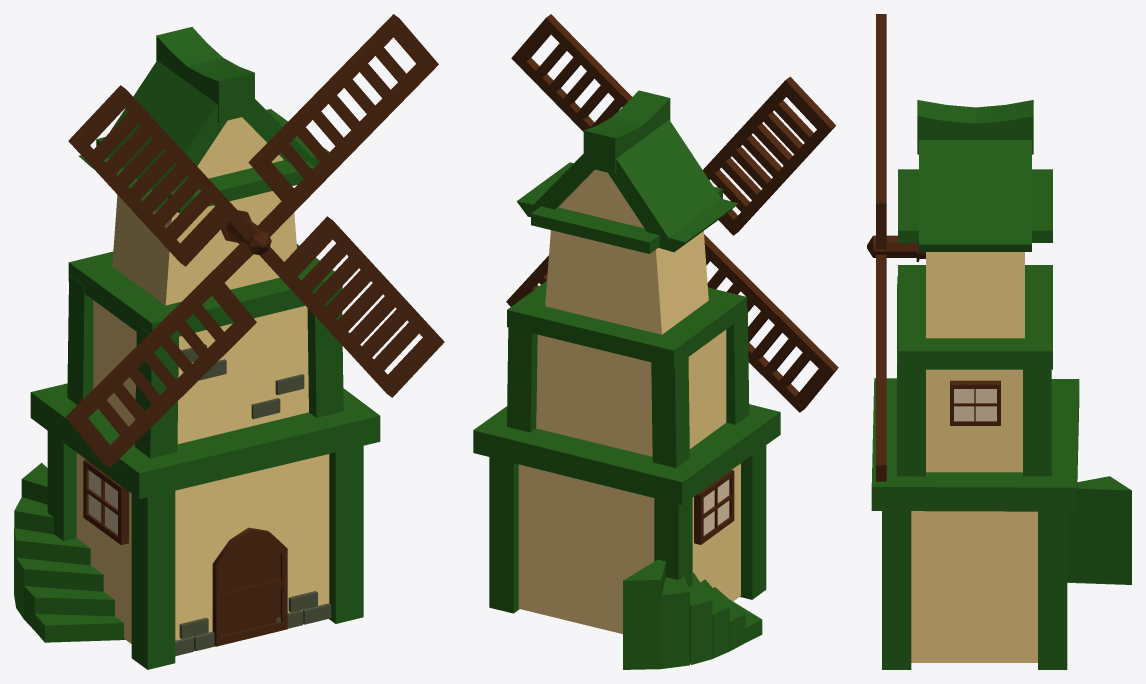
The model's file is windmil.fbx.
The picture shows the model from 3 angles, left to right: view 1: azimuth 30°, elevation 25°; view 2: azimuth 150°, elevation 25°; view 3: azimuth 270°, elevation 25°; orthographic projection. The views are drawn at different scales.
Parts seen in each view (by area): view 1: windmil; view 2: windmil; view 3: windmil.
Part boxes in pixels (bbox=[...]): windmil: bbox=[14, 14, 444, 669]; windmil: bbox=[473, 14, 838, 669]; windmil: bbox=[867, 14, 1131, 669].
Bounding box in the file's own units: 278 × 422 × 184.
